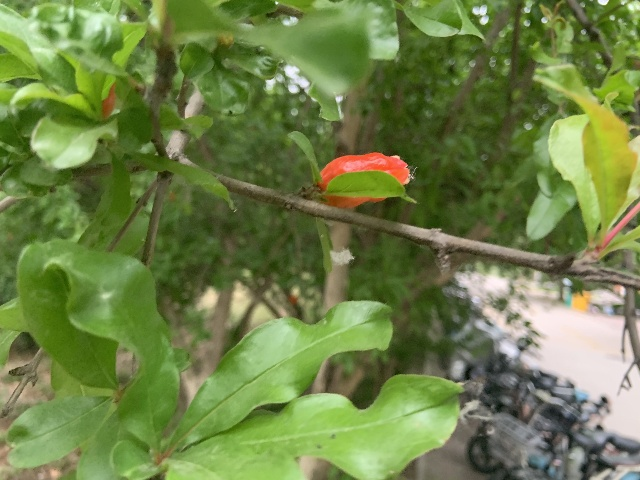bud: (317, 151, 410, 208)
